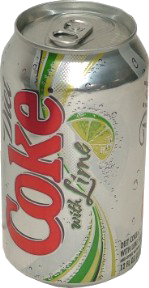grozi_54: (0, 0, 148, 288)
